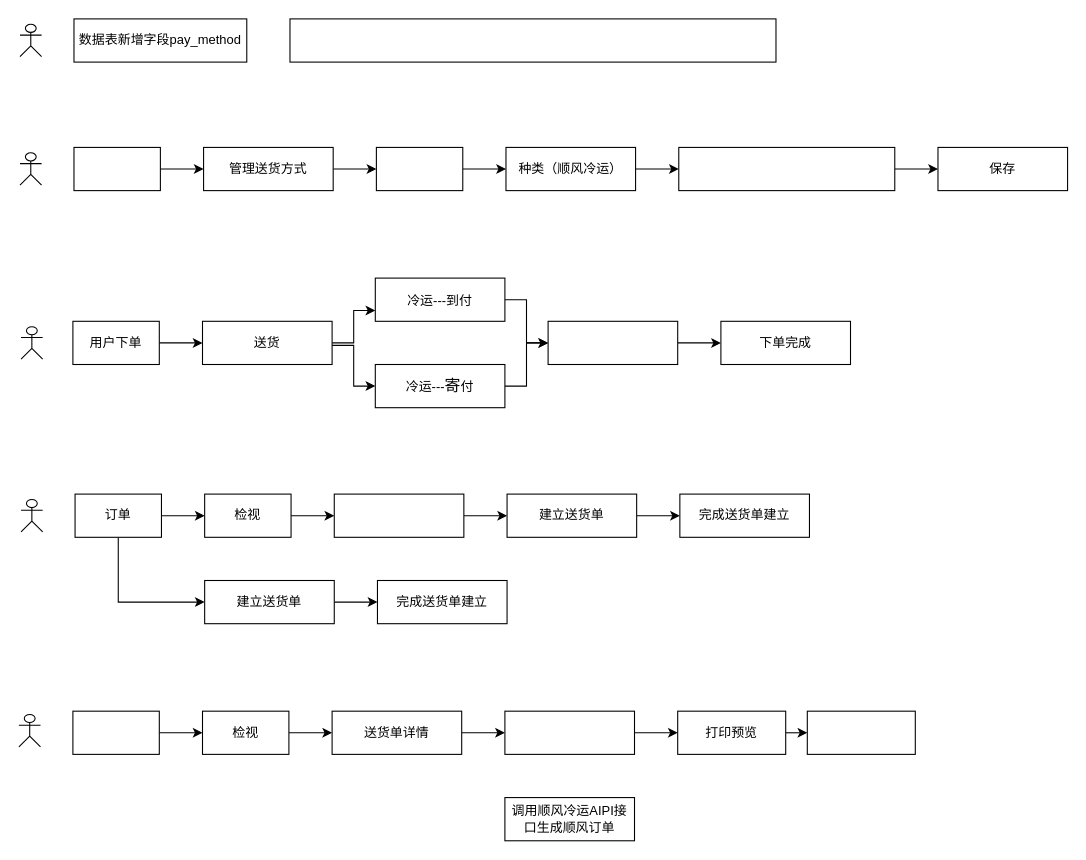
Image size: 1086x860. Some labels were removed from this diagram. Each missing label, with the centre of its shape:
"shipping_method数据表新增字段 pay_method：1 寄付 2 到付" goes at point 532,40.
"付款订购" goes at point 612,342.
"打印送货单" goes at point 860,732.
"新增" goes at point 419,168.
"物流" goes at point 116,168.
"订单详情" goes at point 398,515.
"运费支付 ：1 寄 付 2 到付" goes at point 786,168.
"送货单" goes at point 115,732.
"顺风冷运" goes at point 569,732.
